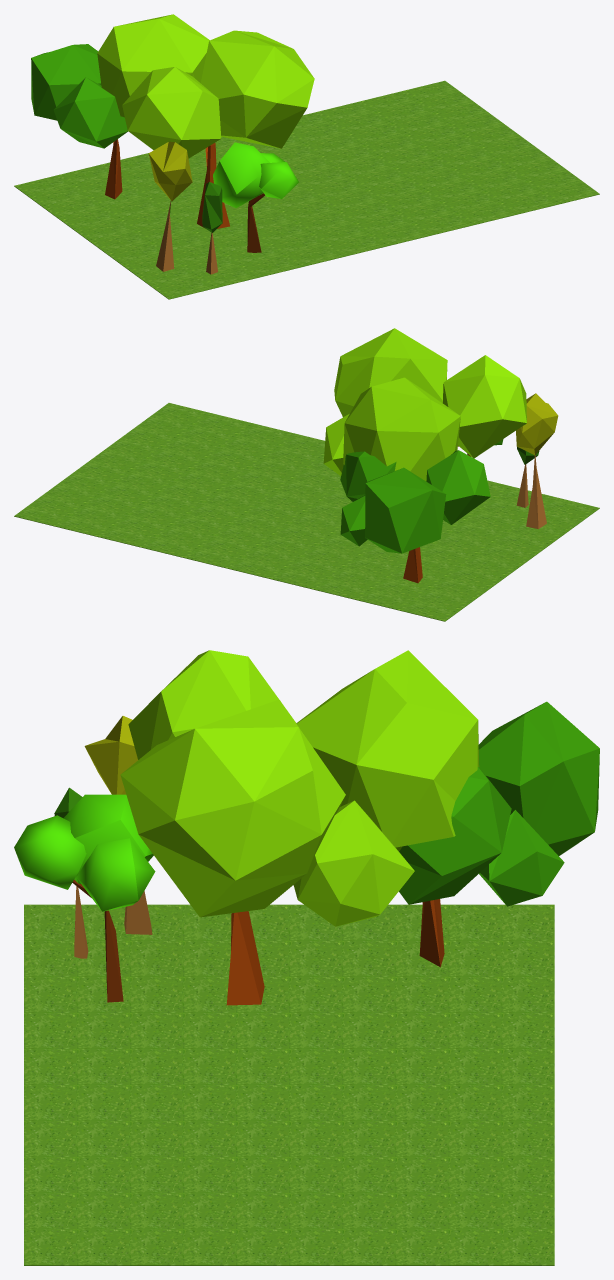
The model's file is treesAndGrass.gltf.
The picture shows the model from 3 angles, top to bottom: view 1: azimuth 30°, elevation 25°; view 2: azimuth 150°, elevation 25°; view 3: azimuth 270°, elevation 25°; orthographic projection. The views are drawn at different scales.
Visible parts, largest first — view 1: Grass_Right_1, Trees; view 2: Grass_Right_1, Trees; view 3: Grass_Right_1, Trees.
Part boxes in pixels (x1,y1,x2,y2): Grass_Right_1: (14, 80, 599, 299); Trees: (31, 14, 314, 274); Grass_Right_1: (14, 403, 599, 621); Trees: (323, 328, 558, 583); Grass_Right_1: (24, 904, 554, 1265); Trees: (14, 650, 599, 1005).
Size of the model in its own units: 90 by 36.75 by 61.84.
10 materials, 1 textured.
